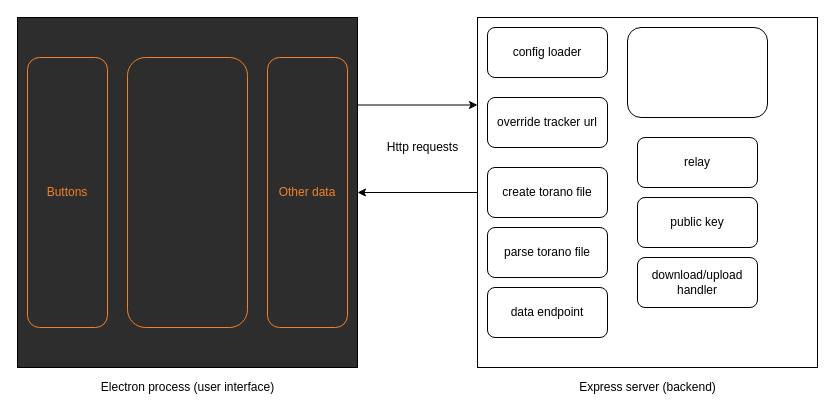
Some shapes in this 835 by 415 pixel diagram are drawn without their labels. The box of each missing label's shape, as (x1, y1, x2, y2) in pixels:
Torrent list: (126, 56, 248, 328)
tracker api: (626, 26, 768, 118)
